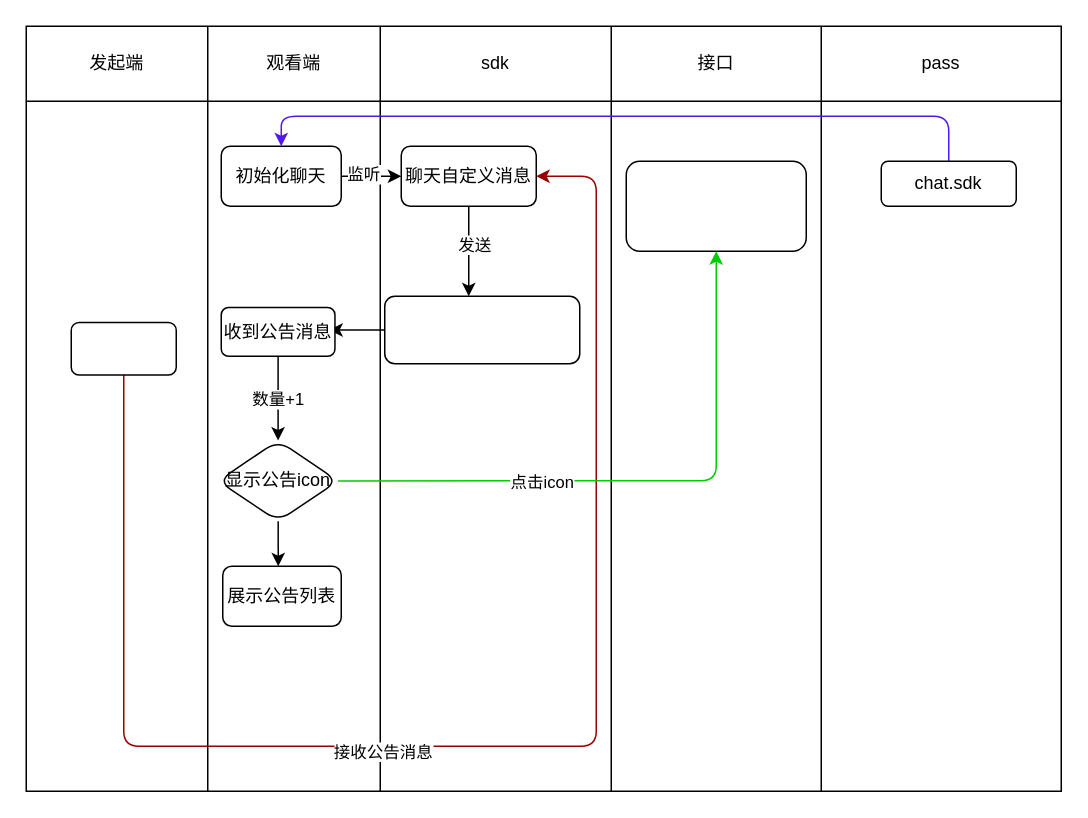
The diagram is 1088 pixels wide and 818 high, and some of its shapes have lost their labels. The shapes that lost their labels are listed below. From the top down, each one's centre as x and y in pixels, then its label:
At point (715, 205): "获取公告历史列表".
At point (123, 348): "发送公告".
At point (481, 329): "自定义消息 room_announcement".
